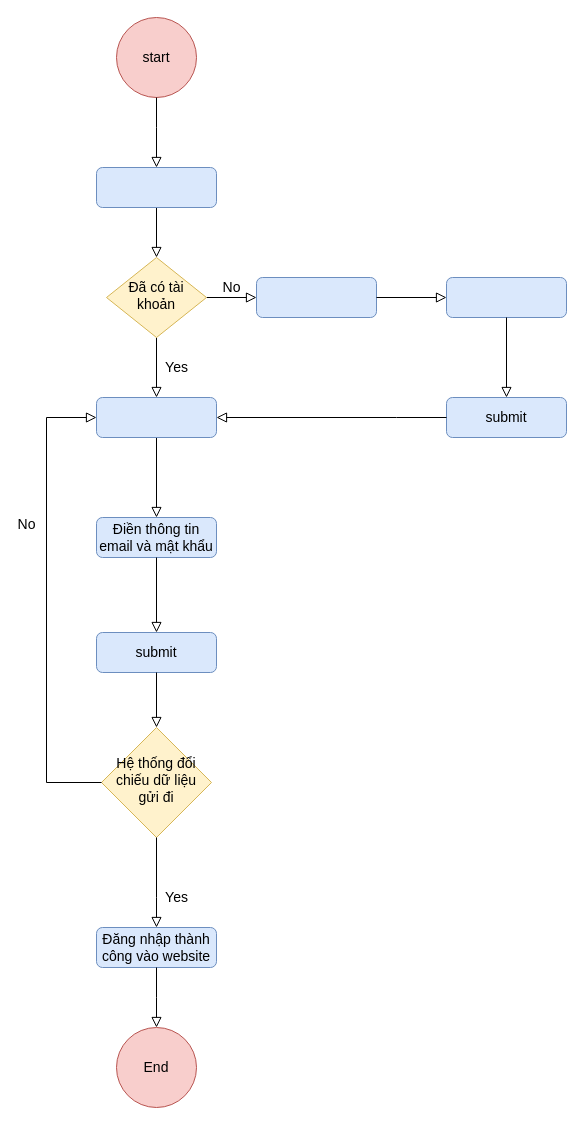
Image size: 584x1125. Some labels were removed from this diagram. Each missing label, with the centre of its shape:
"Truy cập website" belongs at pixel 156 187.
"Điền thông tin" belongs at pixel 506 297.
"Đăng ký" belongs at pixel 316 297.
"Đăng nhập" belongs at pixel 156 417.
